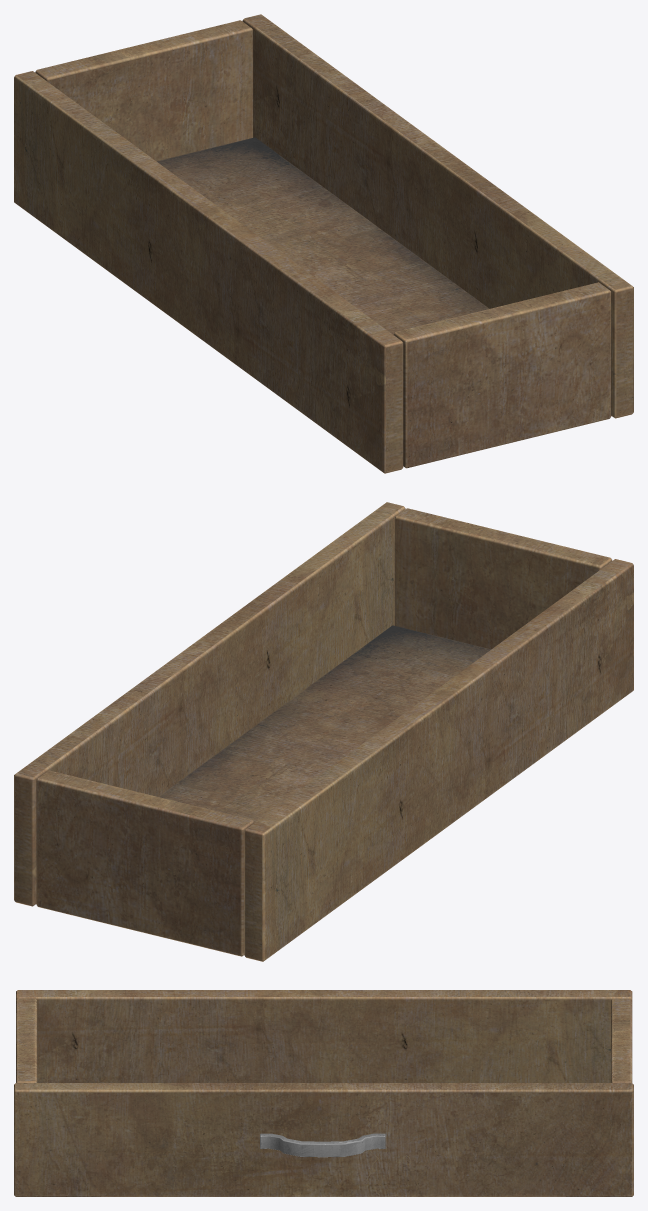
The model's file is SM_Shelf_Drawer.fbx.
3 renders of one model, top to bottom at view 1: azimuth 30°, elevation 25°; view 2: azimuth 150°, elevation 25°; view 3: azimuth 270°, elevation 25°, orthographic. The views are drawn at different scales.
Visible parts, largest first — view 1: SM_Shelf_Drawer_LOD0; view 2: SM_Shelf_Drawer_LOD0; view 3: SM_Shelf_Drawer_LOD0.
Boxes of the visible parts, x1,y1,x2,y2 form: SM_Shelf_Drawer_LOD0: [14, 14, 633, 473]; SM_Shelf_Drawer_LOD0: [14, 502, 633, 961]; SM_Shelf_Drawer_LOD0: [14, 990, 633, 1196].
Size of the model in its own units: 28.43 by 66.49 by 12.66.
Materials: 1 (1 with a texture image).
